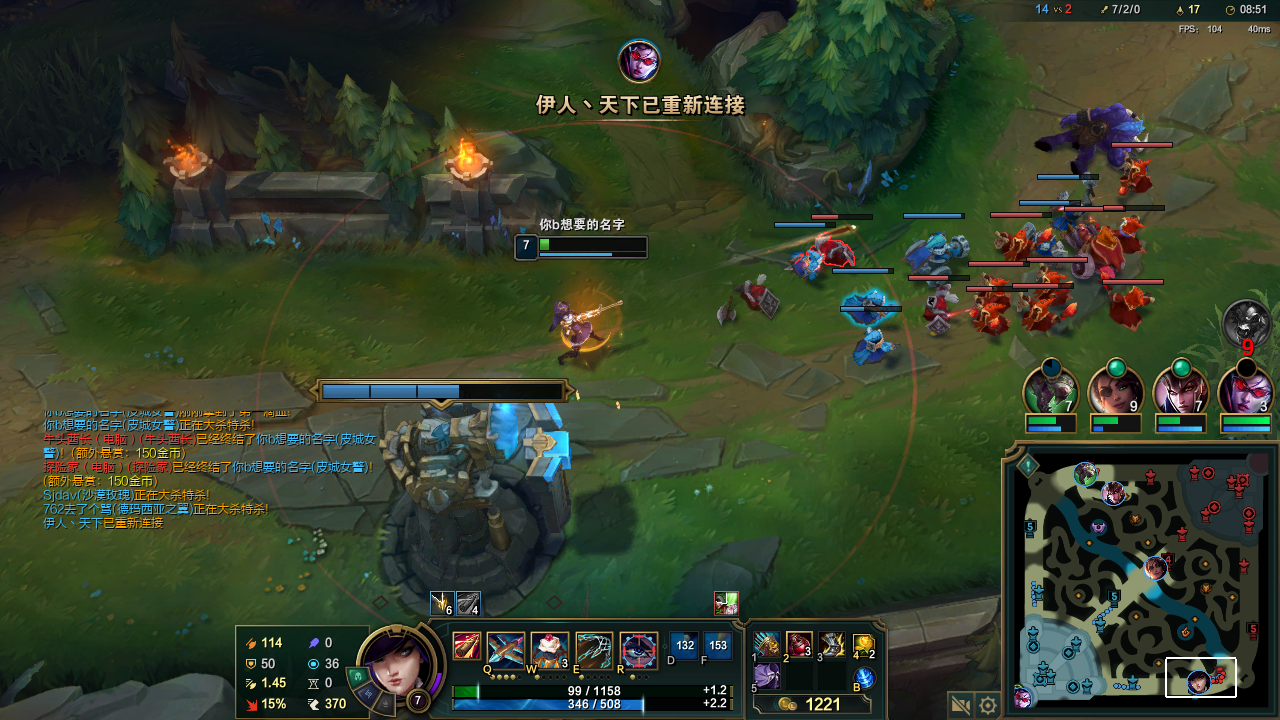DFXB: (1074, 221, 1122, 280), (1098, 283, 1147, 327), (815, 232, 860, 273), (1017, 296, 1062, 336), (920, 287, 956, 329), (1033, 266, 1067, 300), (1119, 157, 1151, 190), (1117, 219, 1149, 250), (983, 271, 1010, 305), (977, 298, 1001, 332)
WFXB: (894, 236, 965, 280), (846, 288, 891, 320), (788, 244, 825, 280), (1049, 191, 1085, 227), (853, 332, 890, 367), (1026, 227, 1060, 259)
